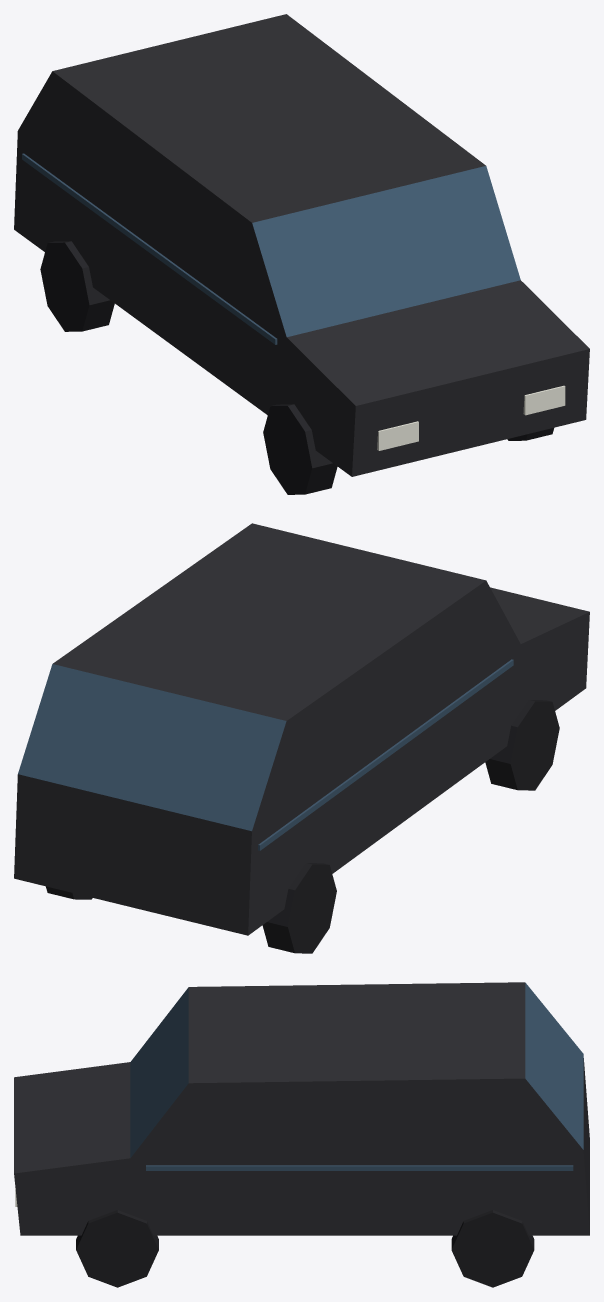
The model's file is carro_rua_3.glb.
3 views of the same model, one above another, from view 1: azimuth 30°, elevation 25°; view 2: azimuth 150°, elevation 25°; view 3: azimuth 270°, elevation 25° (orthographic). The views are drawn at different scales.
Visible parts, largest first — view 1: cor, vi, pre, far; view 2: cor, vi, pre; view 3: cor, vi, pre.
Part boxes in pixels (x1,y1,x2,y2): cor: (14, 14, 589, 476); vi: (22, 153, 520, 344); pre: (40, 241, 553, 494); far: (377, 385, 565, 450); cor: (14, 523, 589, 935); vi: (18, 659, 513, 850); pre: (46, 700, 559, 953); cor: (14, 982, 589, 1235); vi: (130, 983, 583, 1170); pre: (76, 1210, 534, 1287).
Bounding box in the file's own units: 1.86 × 1.76 × 4.45.
